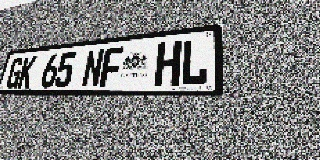5: (54, 52, 76, 88)
6: (40, 53, 61, 88)
F: (99, 47, 124, 87)
G: (5, 57, 25, 88)
H: (154, 41, 182, 86)
K: (17, 56, 37, 88)
L: (180, 38, 209, 86)
N: (81, 49, 105, 87)
